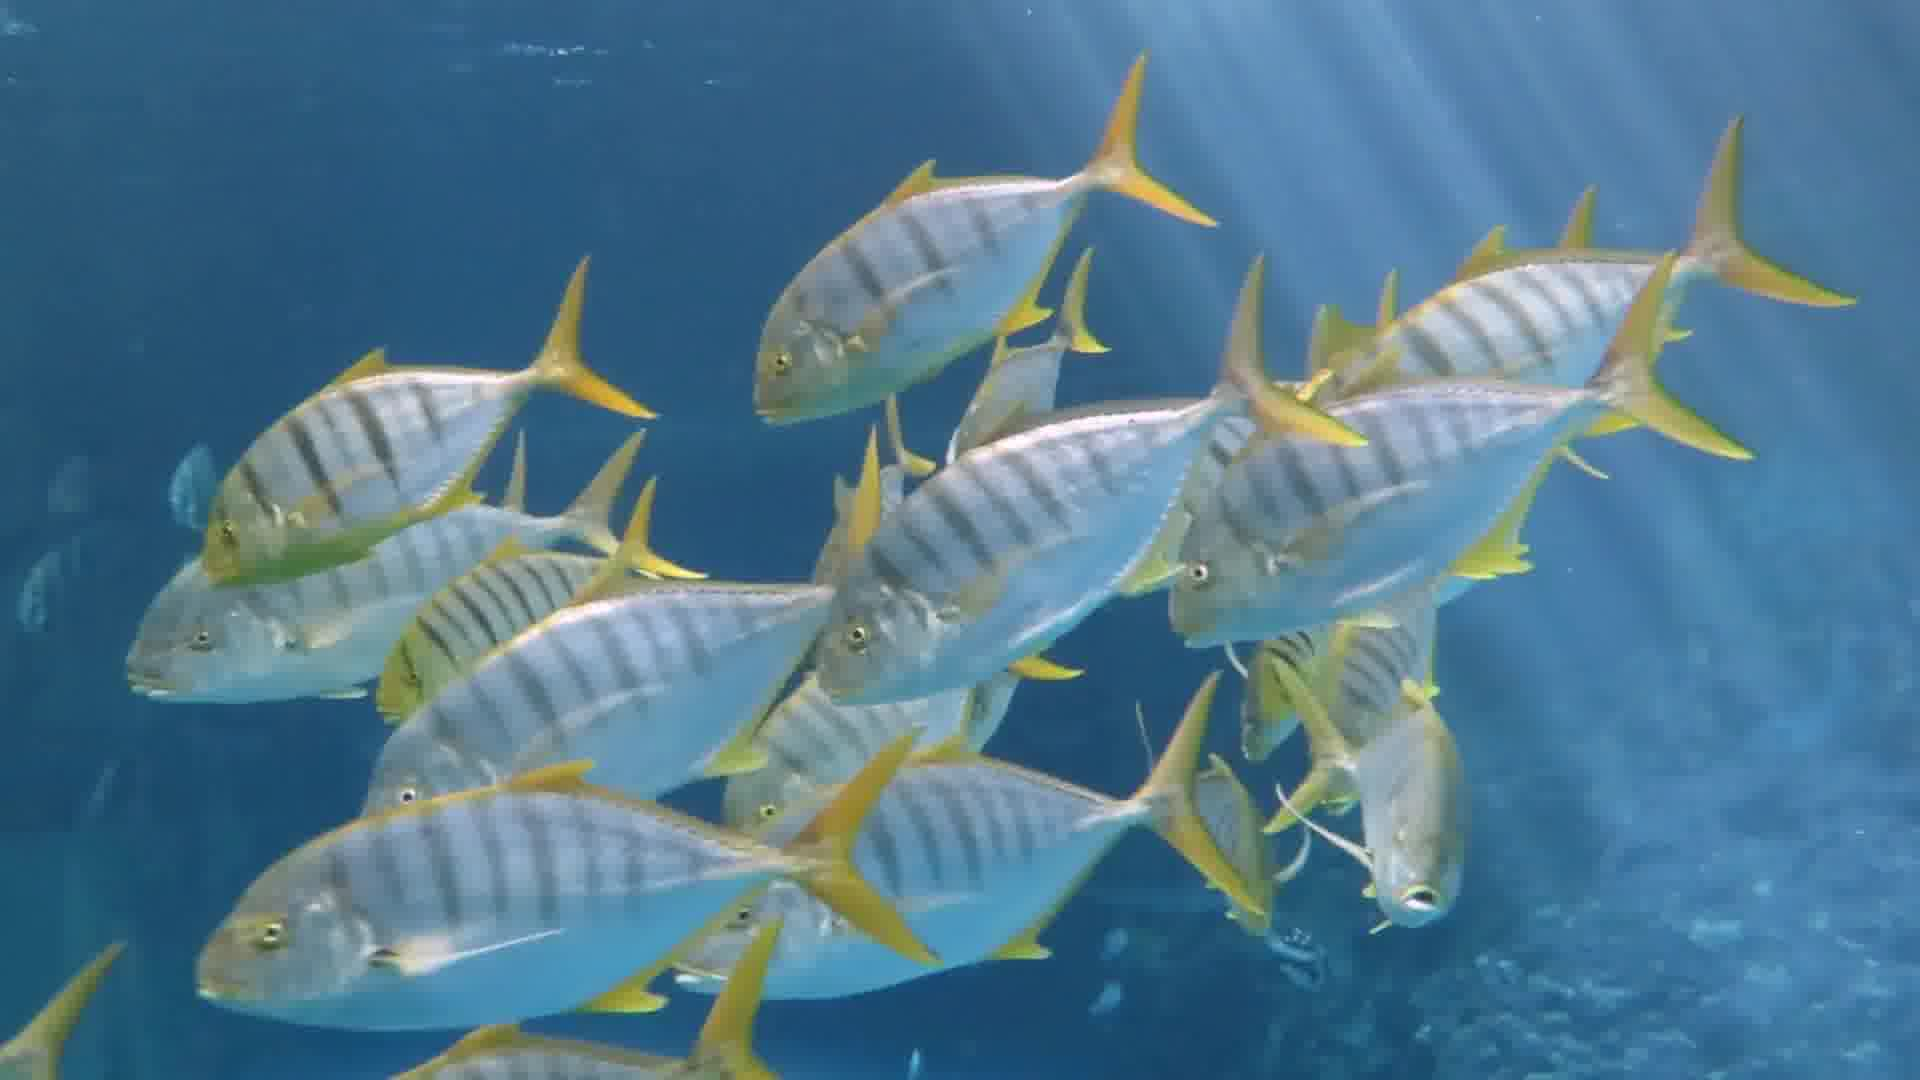Gnathanodon speciosus: (1172, 338, 1739, 673), (149, 796, 931, 1019), (756, 84, 1162, 423), (818, 375, 1211, 720), (150, 491, 611, 721), (198, 324, 563, 587), (1360, 723, 1472, 923)
